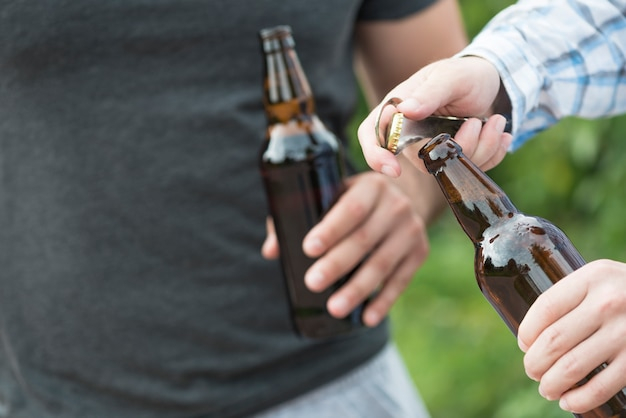alcohol: (417, 133, 626, 418), (258, 24, 366, 343)
